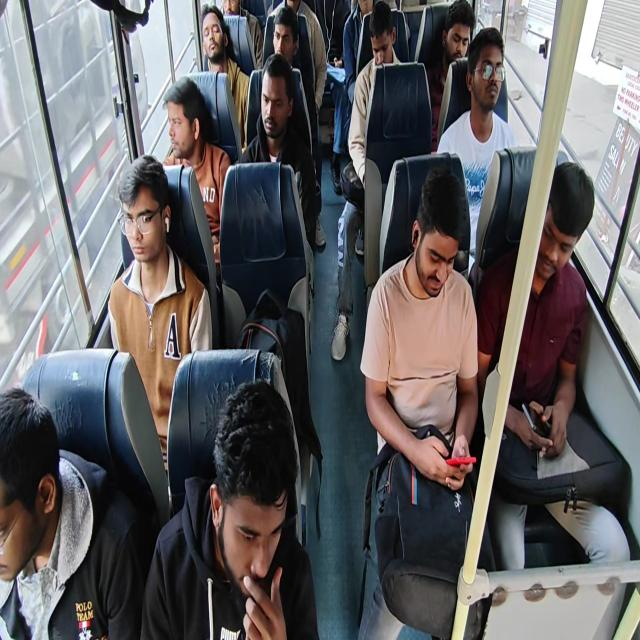person: (476, 159, 631, 637), (358, 165, 494, 638), (140, 378, 319, 639), (0, 385, 144, 638), (108, 154, 212, 475), (331, 1, 403, 361), (436, 26, 518, 279), (240, 52, 319, 249), (161, 76, 231, 266), (330, 0, 375, 194), (425, 0, 476, 151), (264, 6, 315, 156), (200, 4, 250, 148), (342, 0, 375, 108), (220, 0, 264, 72)
